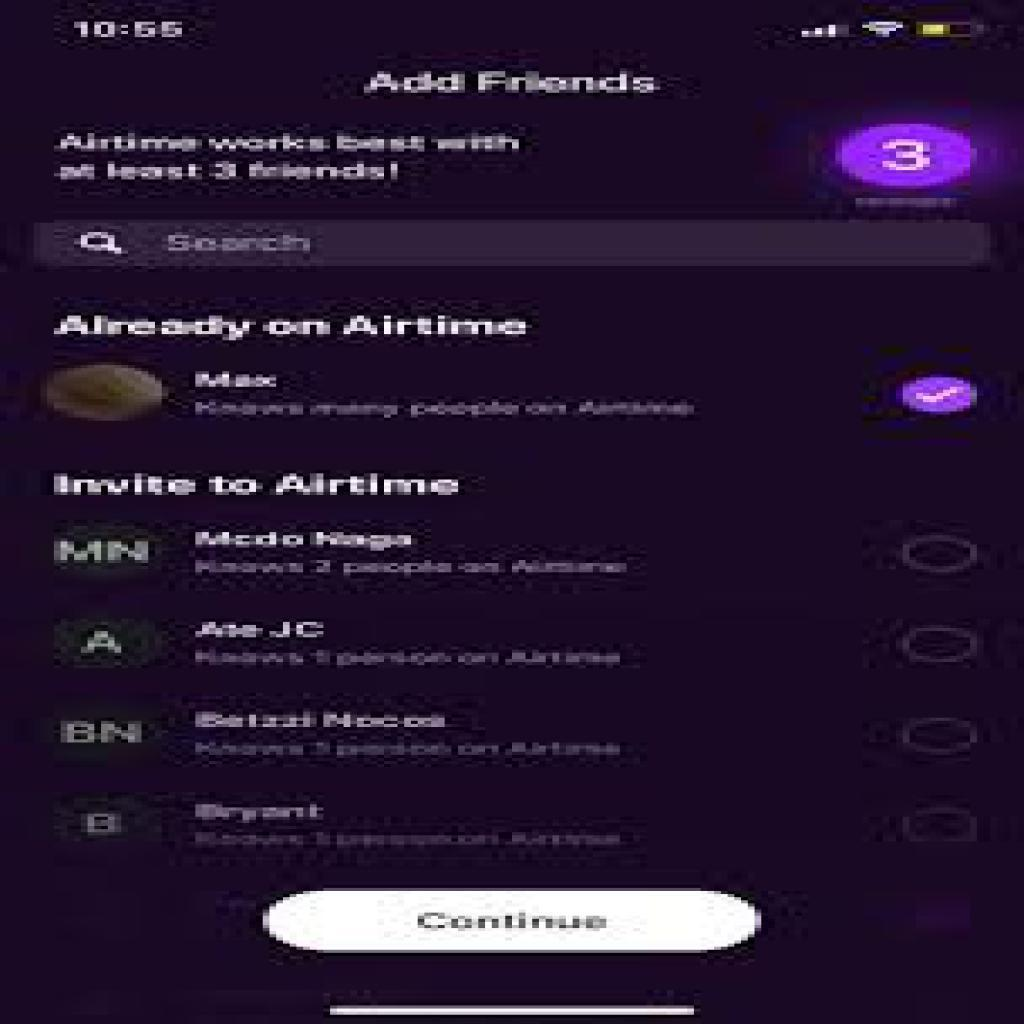button: (265, 885, 762, 956)
checkbox: (893, 369, 989, 426)
icon: (73, 223, 132, 266)
radio: (901, 795, 981, 855), (902, 707, 983, 766), (899, 529, 981, 585), (902, 616, 983, 671)
